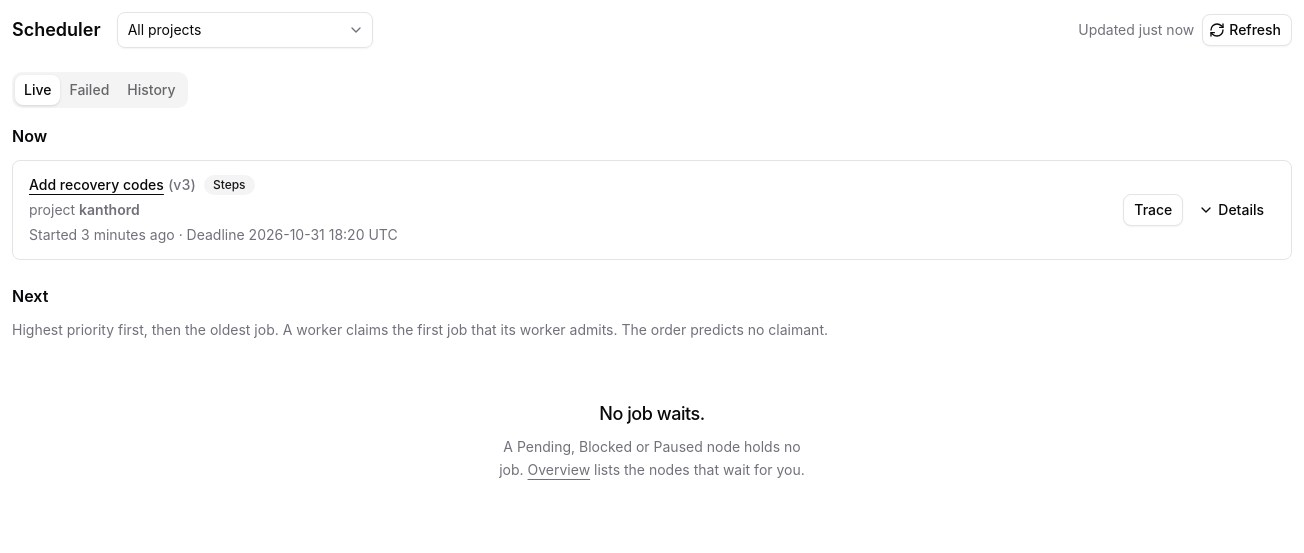
Test: SchedulerScreen Now › reads the executions of a claiming node that the newest page misses
expect the number of list items is 1: met, box [12,160,1292,260]
Click the button with aria-label "Details of the execution" at coordinates (1233, 210), box [1191,194,1275,226]
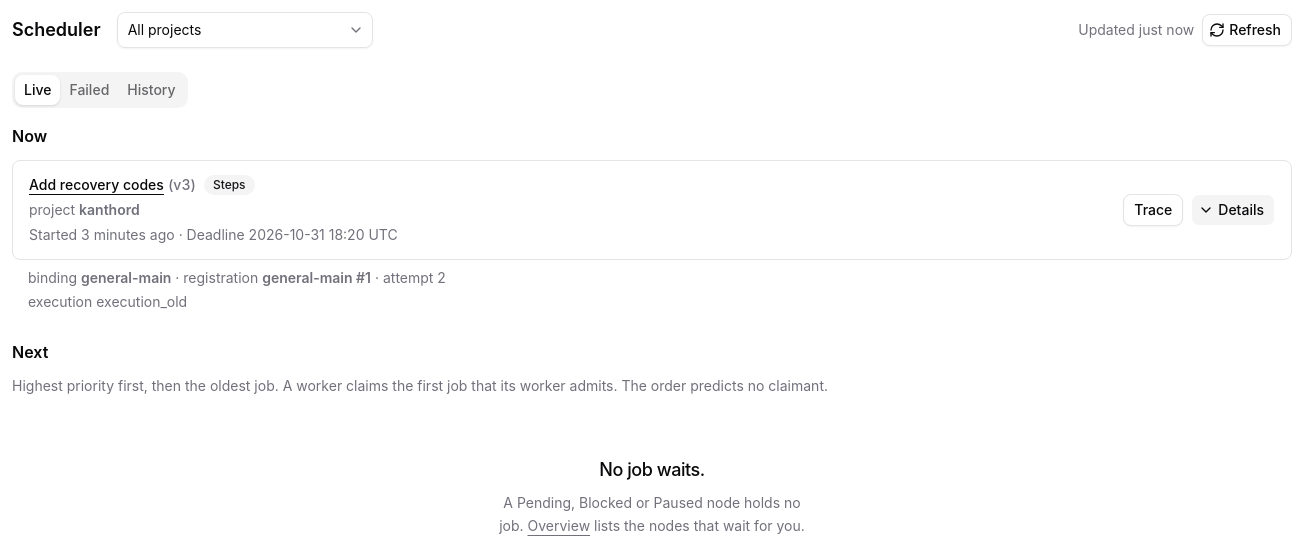
expect the text "execution execution_old" is shown: met, box [28,293,187,310]
